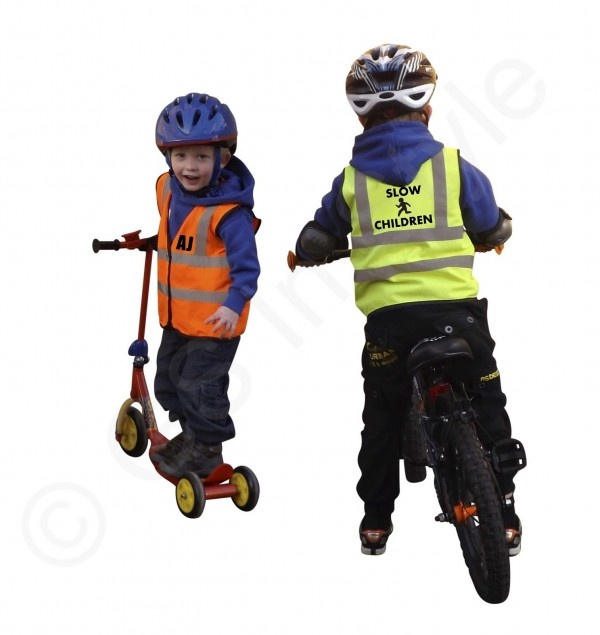helmet: (350, 41, 432, 118), (157, 92, 236, 158)
person with full safety: (338, 49, 527, 564), (143, 98, 249, 476)
safety vest: (342, 142, 489, 309), (145, 183, 250, 346)
